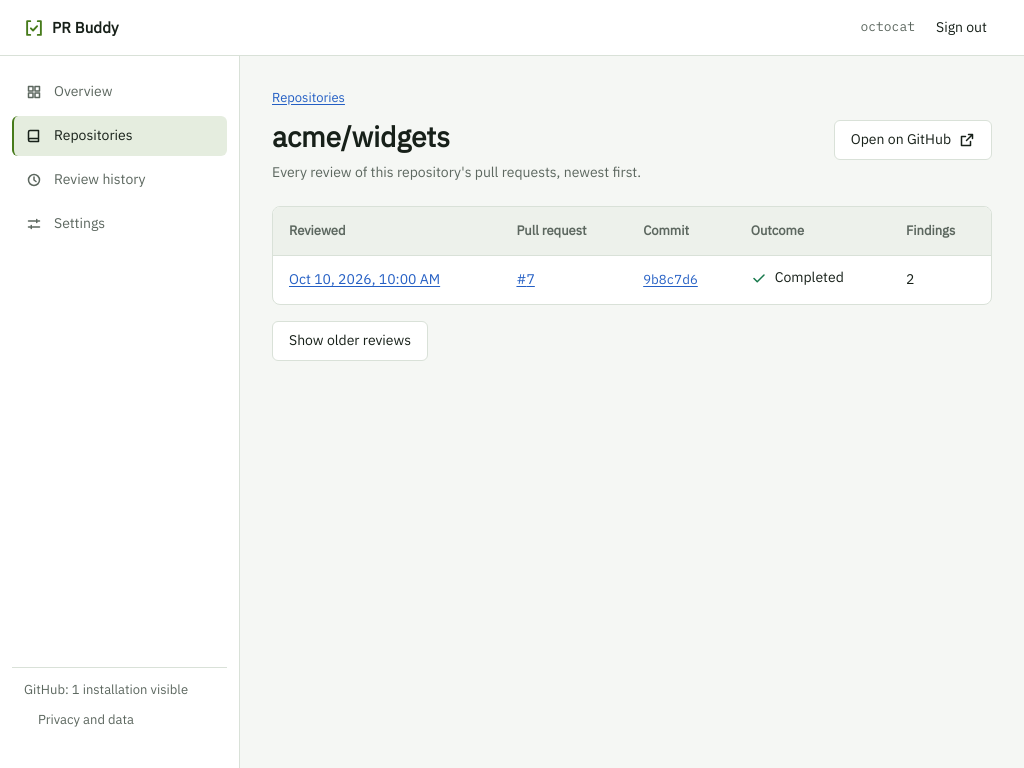
one repository › adds older reviews below when asked
What coordinates should you click on to do the following:
click the button "Show older reviews"
I would click on:
 (350, 340)
Its box is [272, 320, 428, 360].
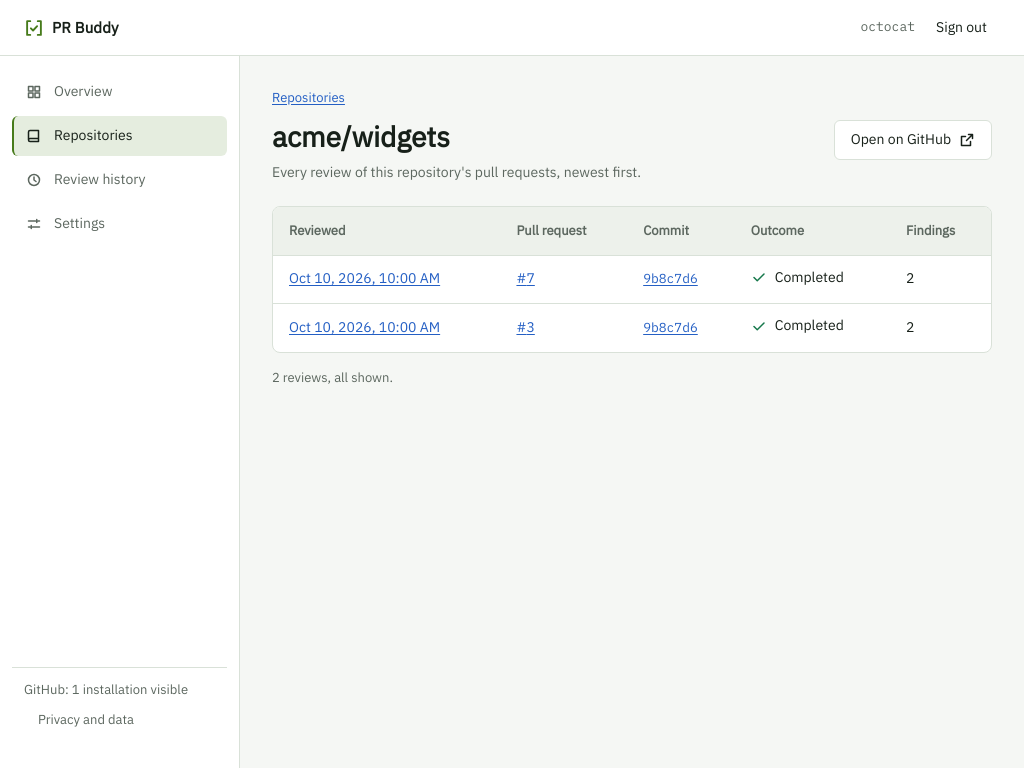
Result: the link "#3" is shown at [516, 318, 535, 336]
Result: the text "2 reviews, all shown." is shown at [272, 368, 393, 386]
Result: the button "Show older reviews" is gone
